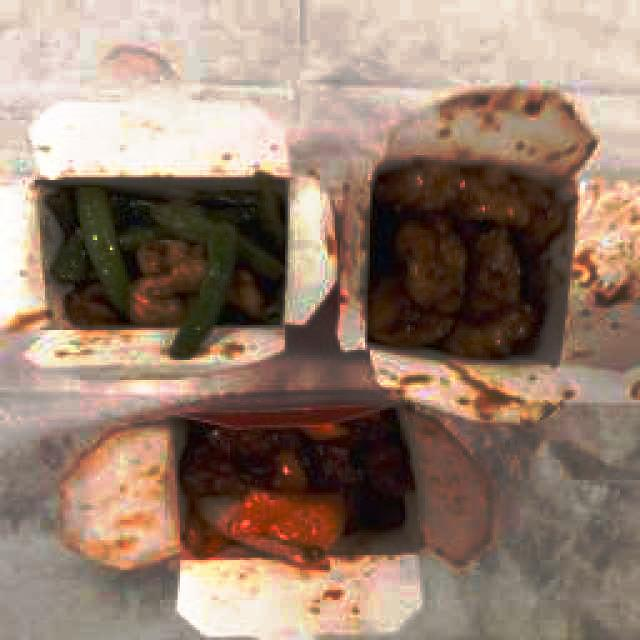Beijing Beef: (364, 158, 565, 361)
Kung Pao Chicken: (173, 398, 412, 563)
String Bean Chicken Breast: (50, 184, 284, 334)
